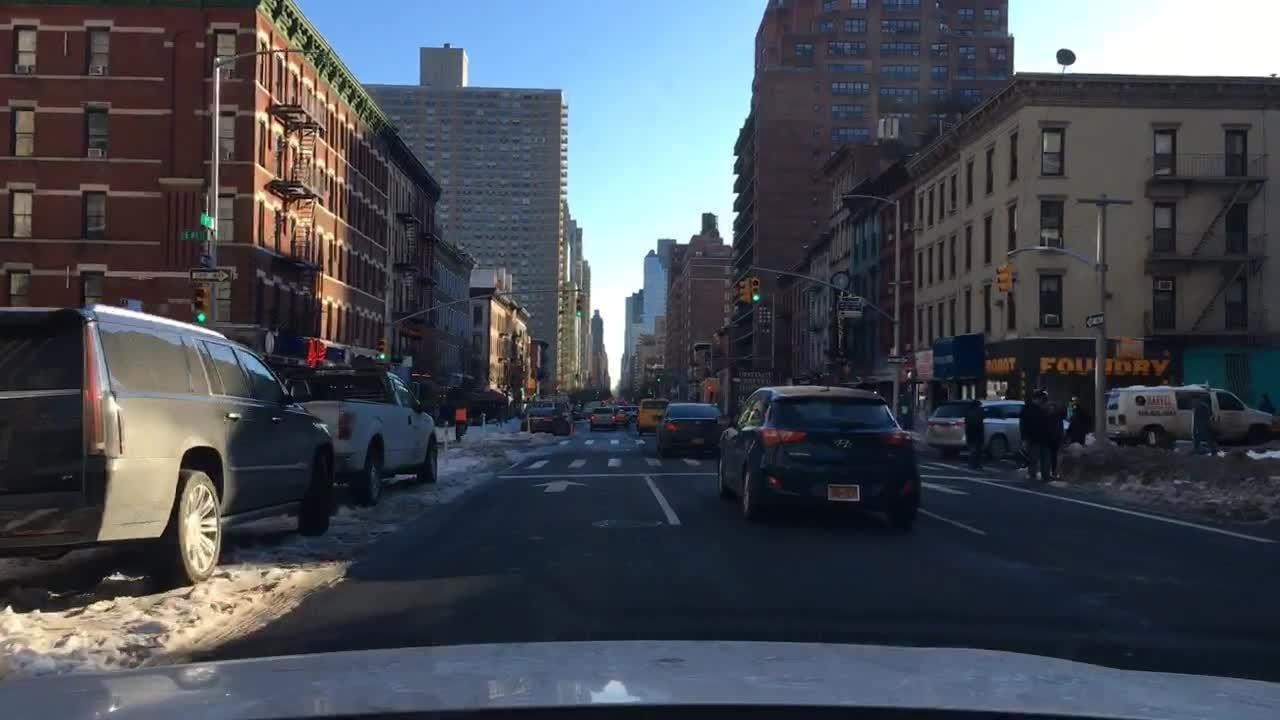Hyundai: (833, 433, 856, 454)
